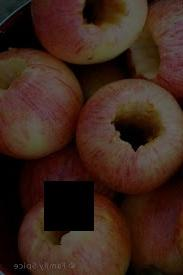rotten apple: (83, 79, 182, 186), (32, 195, 73, 251)
